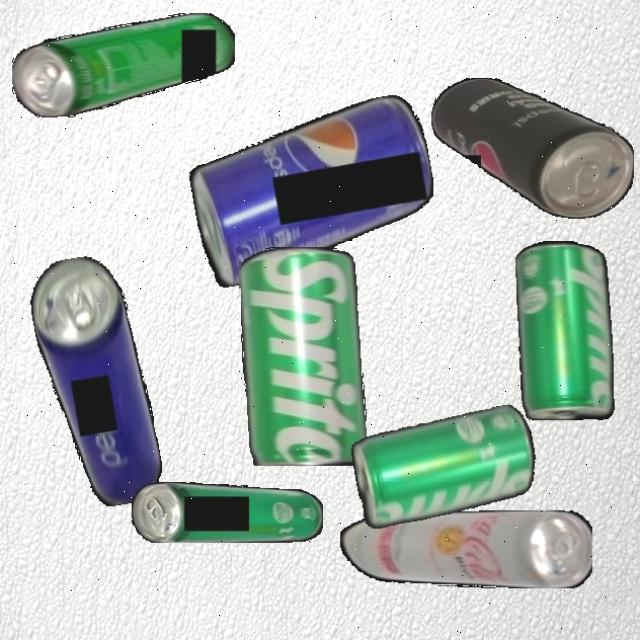debris: (182, 91, 445, 290), (24, 250, 167, 514), (430, 78, 634, 219), (239, 246, 367, 466), (348, 402, 543, 531), (12, 12, 235, 118), (340, 511, 592, 588), (516, 240, 614, 420), (132, 481, 323, 543)
